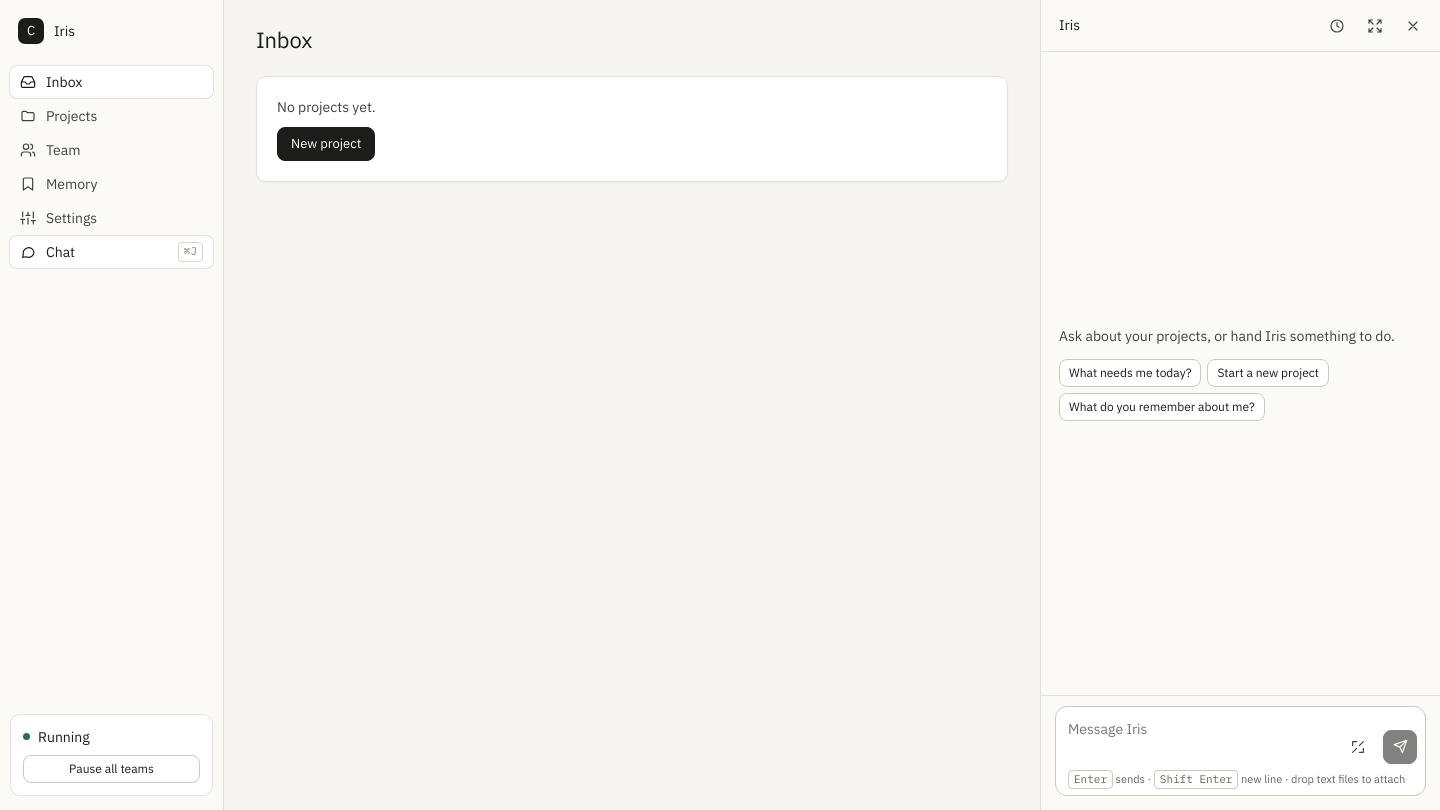
it: the shell › opens and closes the chat with ⌘J and remembers it
Check: the text box labelled "Message Iris" is shown, box [1068,715,1333,764]
Press j
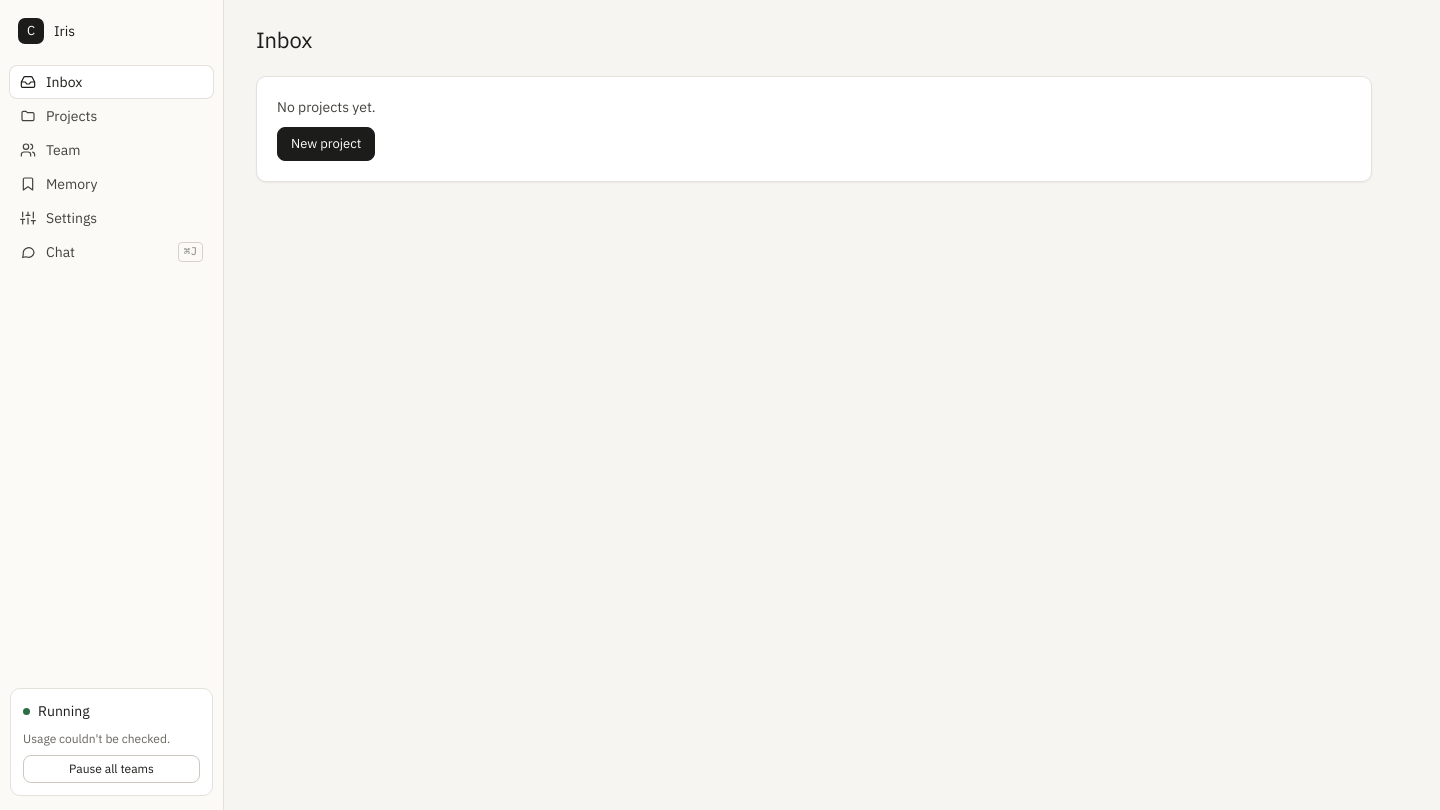
Check: the field labelled "Message Iris" is not shown
Click the button "Chat ⌘J" at (112, 252), box [10,236,213,268]
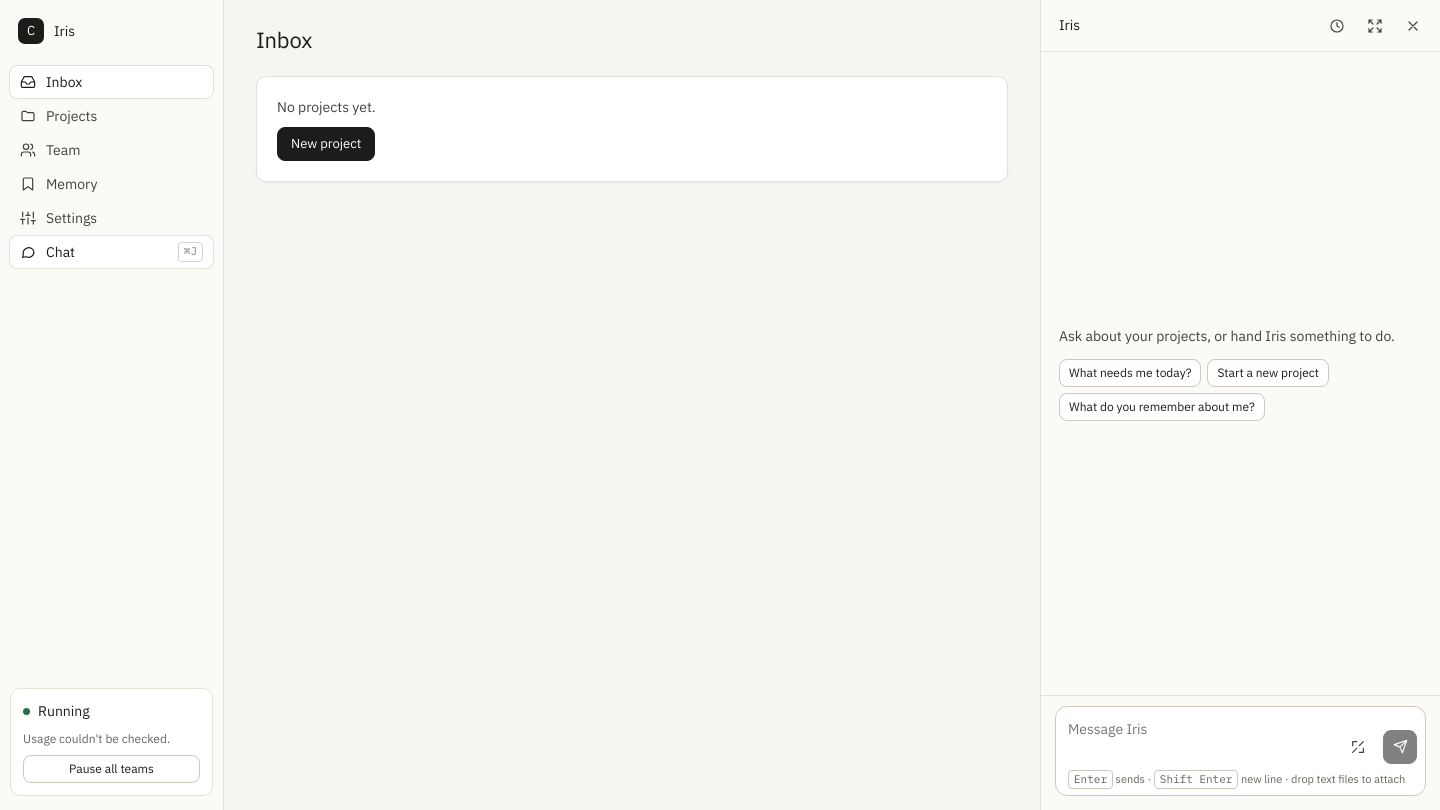
Check: the text box labelled "Message Iris" is shown, box [1068,715,1333,764]
